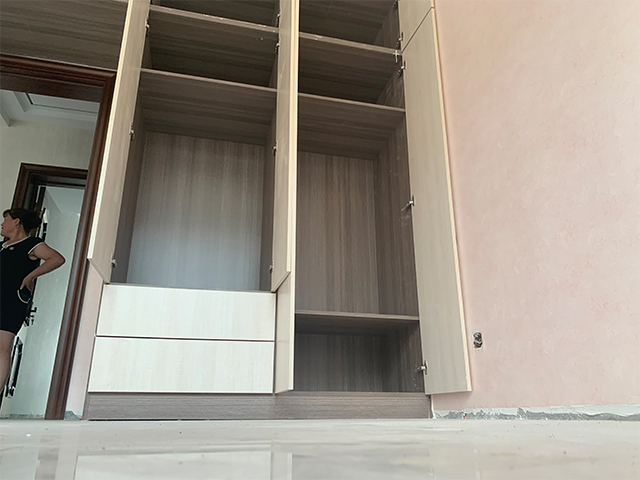cabinet: (61, 124, 421, 421)
